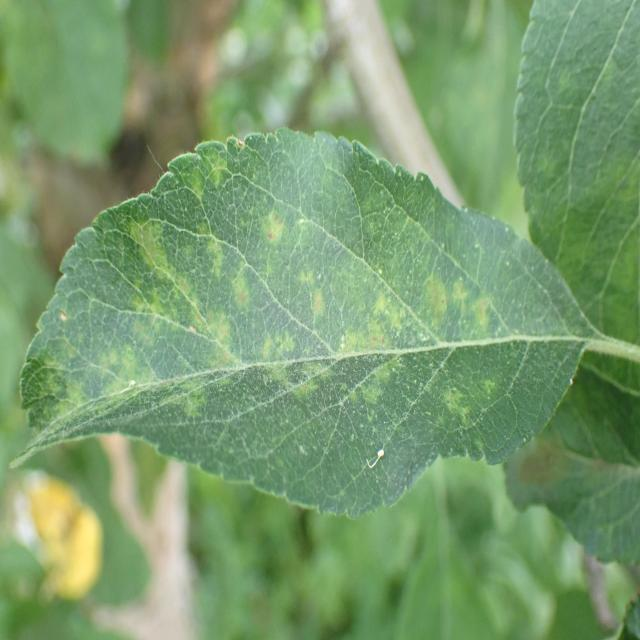scab: (11, 146, 534, 466)
